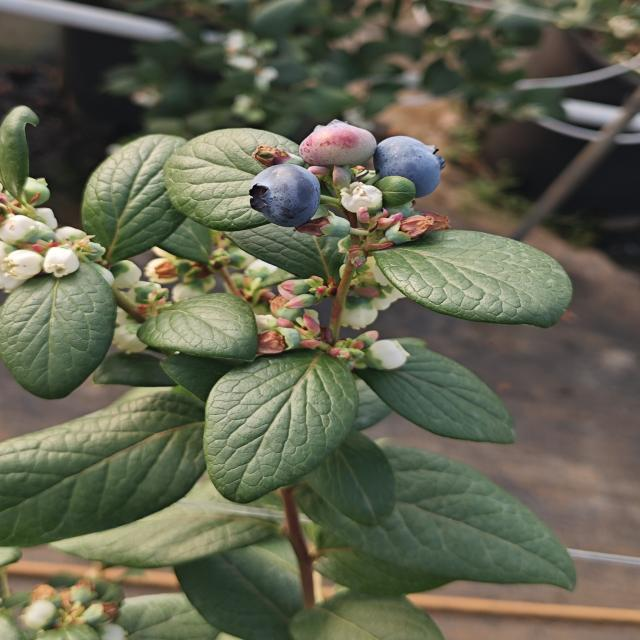ripe: (245, 162, 323, 230), (371, 134, 447, 201)
